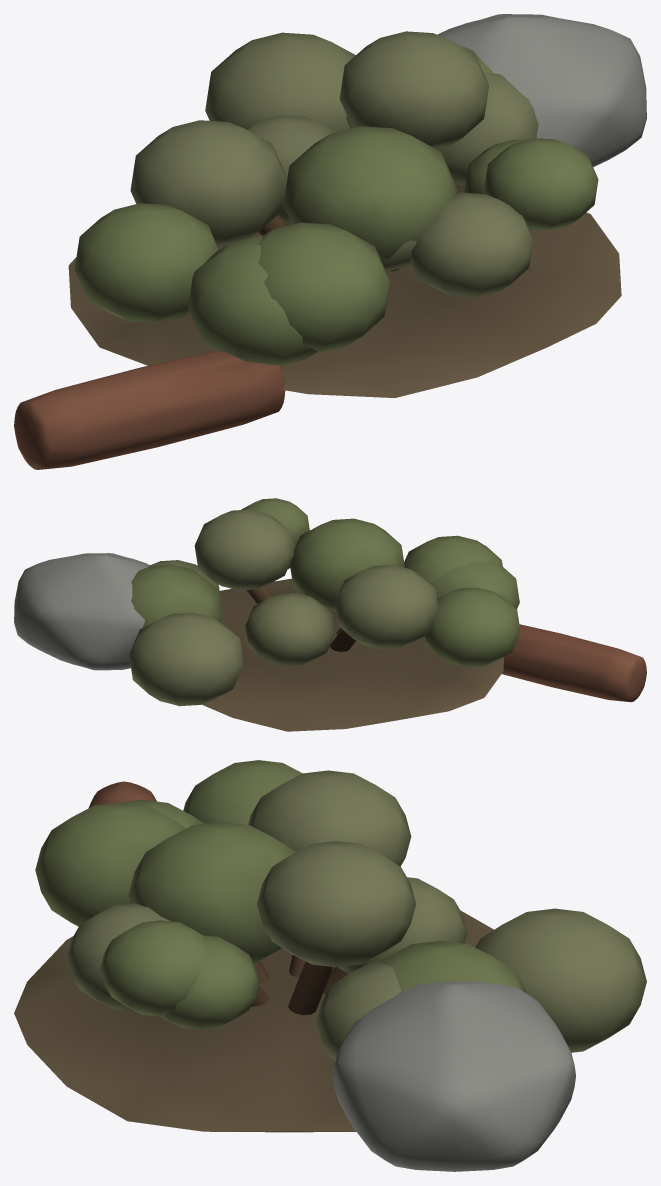
Rendered from saltbush_c.glb.
3 renders of one model, top to bottom at view 1: azimuth 30°, elevation 25°; view 2: azimuth 150°, elevation 25°; view 3: azimuth 270°, elevation 25°, orthographic. The views are drawn at different scales.
Parts seen in each view (by area): view 1: Surface; view 2: Surface; view 3: Surface.
Boxes of the visible parts, x1=… form: Surface: x1=14, y1=14, x2=646, y2=469; Surface: x1=14, y1=498, x2=646, y2=731; Surface: x1=14, y1=760, x2=646, y2=1171.
Size of the model in its own units: 2.79 by 0.8351 by 1.92.
